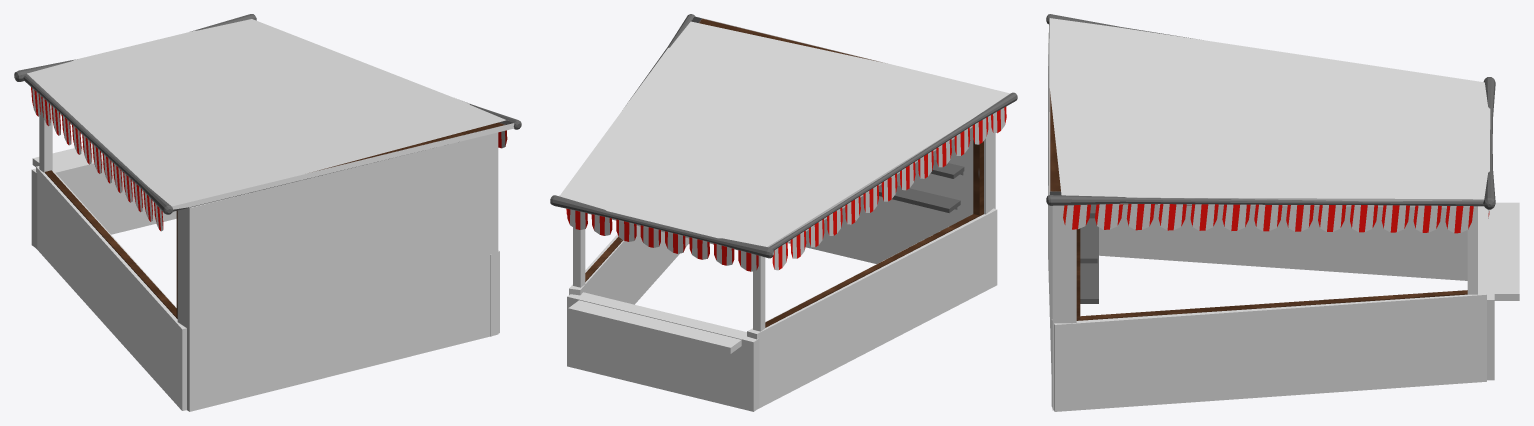
File: PuestoEscopeta.fbx
The picture shows the model from 3 angles, left to right: view 1: azimuth 30°, elevation 25°; view 2: azimuth 150°, elevation 25°; view 3: azimuth 270°, elevation 25°; orthographic projection. The views are drawn at different scales.
Visible parts, largest first — view 1: PuestoEscopetMesh, PuestoEscopeta; view 2: PuestoEscopetMesh, PuestoEscopeta; view 3: PuestoEscopetMesh, PuestoEscopeta.
Part boxes in pixels (bbox=[...]): PuestoEscopetMesh: bbox=[27, 19, 514, 411]; PuestoEscopeta: bbox=[14, 14, 521, 318]; PuestoEscopetMesh: bbox=[559, 16, 1010, 411]; PuestoEscopeta: bbox=[550, 14, 1017, 327]; PuestoEscopetMesh: bbox=[1048, 18, 1519, 411]; PuestoEscopeta: bbox=[1046, 14, 1495, 320].
Size of the model in its own units: 4.49 by 4.84 by 2.53.
